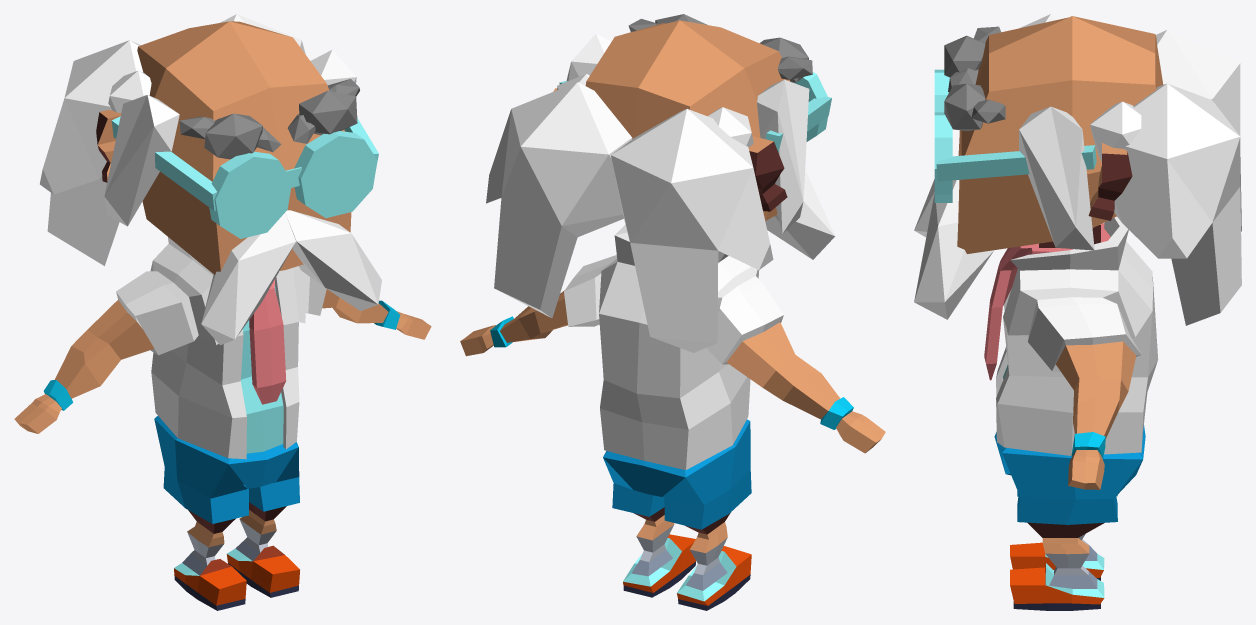
File: GameJam_OldmanMagee_test_002_121221.fbx
3 renders of one model, left to right at view 1: azimuth 30°, elevation 25°; view 2: azimuth 150°, elevation 25°; view 3: azimuth 270°, elevation 25°, orthographic. The views are drawn at different scales.
Visible parts, largest first — view 1: Head 1, Body 1.001, Head 1.003, Body 1, Head 1.001, Body 1.003, Head 1.002, Body 1.004, Body 1.002, Body 1.005; view 2: Head 1.003, Body 1.001, Head 1, Body 1, Body 1.003, Body 1.004, Head 1.002, Head 1.001, Body 1.005; view 3: Head 1.003, Head 1, Body 1.001, Body 1, Body 1.003, Head 1.001, Body 1.004, Head 1.002, Body 1.002, Body 1.005.
Boxes of the visible parts, x1,y1,x2,y2 form: Head 1: (96,21,381,345); Body 1.001: (116,237,326,459); Head 1.003: (40,14,356,265); Body 1: (14,285,431,575); Head 1.001: (111,116,378,238); Body 1.003: (154,416,299,523); Head 1.002: (179,79,359,159); Body 1.004: (174,545,299,610); Body 1.002: (249,279,286,404); Body 1.005: (44,300,400,410); Head 1.003: (486,34,809,352); Body 1.001: (564,224,783,469); Head 1: (553,20,835,259); Body 1: (460,290,885,590); Body 1.003: (603,419,751,529); Body 1.004: (623,534,751,610); Head 1.002: (628,14,812,82); Head 1.001: (559,72,831,152); Body 1.005: (490,316,853,429); Head 1.003: (1019,14,1241,325); Head 1: (914,16,1163,319); Body 1.001: (996,216,1158,455); Body 1: (1003,224,1136,588); Body 1.003: (994,425,1145,524); Head 1.001: (934,69,1096,202); Body 1.004: (1010,542,1104,610); Head 1.002: (944,26,1005,131); Body 1.002: (984,223,1110,380); Body 1.005: (1071,432,1105,457).
Size of the model in its own units: 159 by 208 by 108.
1 material, 1 textured.
